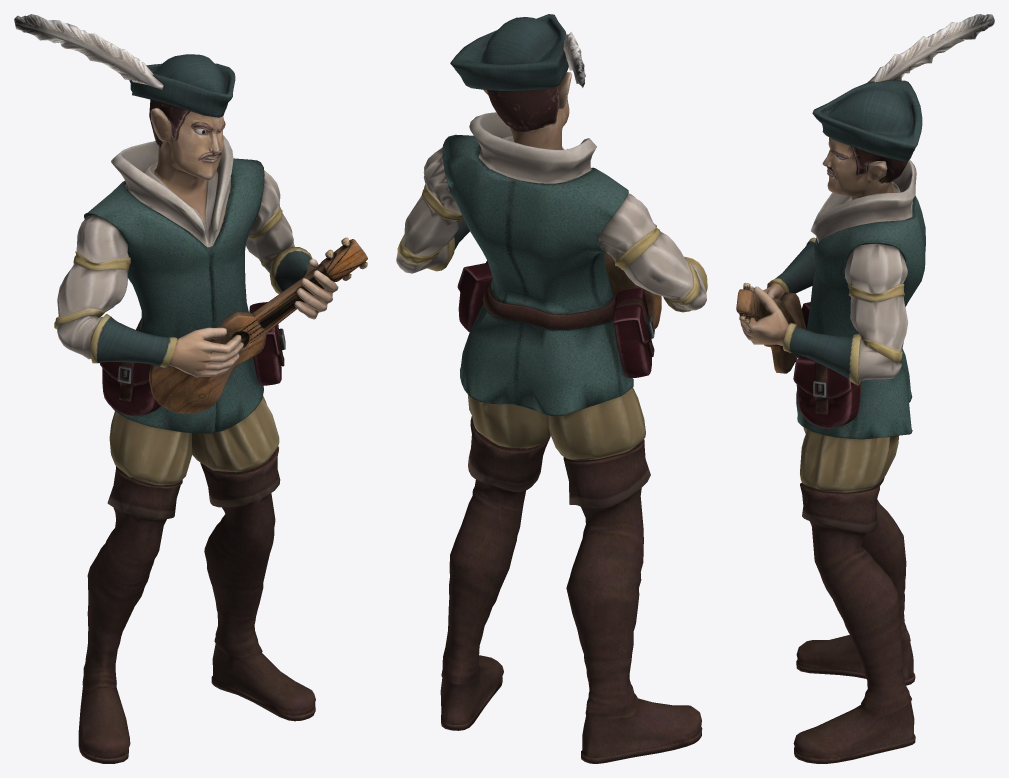
The model's file is MZ4250 - Rictavio.glb.
3 renders of one model, left to right at view 1: azimuth 30°, elevation 25°; view 2: azimuth 150°, elevation 25°; view 3: azimuth 270°, elevation 25°, orthographic. The views are drawn at different scales.
Visible parts, largest first — view 1: Rictavio; view 2: Rictavio; view 3: Rictavio.
Boxes of the visible parts, x1,y1,x2,y2 form: Rictavio: [14, 14, 367, 763]; Rictavio: [396, 14, 707, 763]; Rictavio: [736, 14, 994, 763].
Bounding box in the file's own units: 0.4875 × 1.2 × 0.4275.
1 material, 1 textured.
